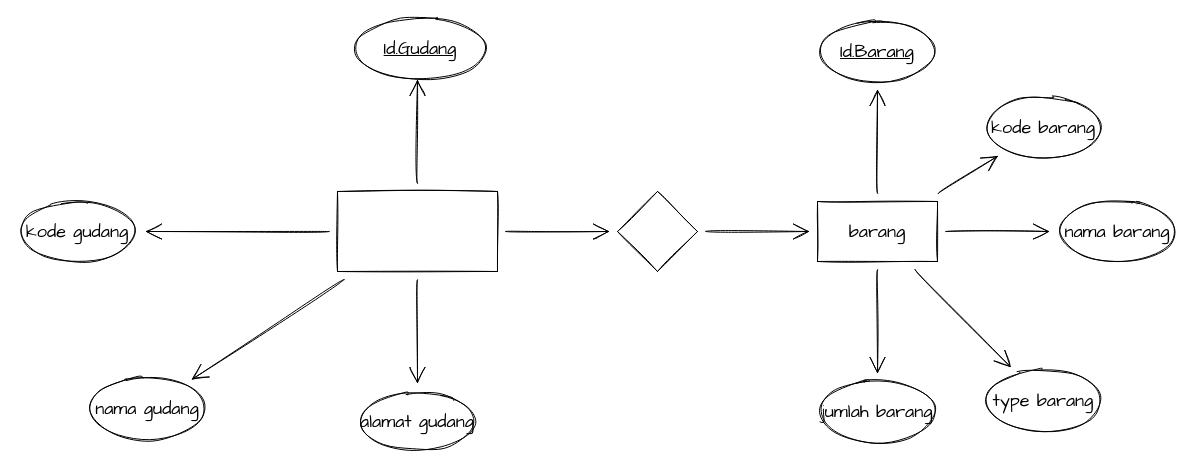
Image size: 1195x469. Some labels were removed from this diagram. The centre of each missing label's shape, as x and y in pixels:
"gudang" goes at [417,231].
"simpan" goes at [657,231].
